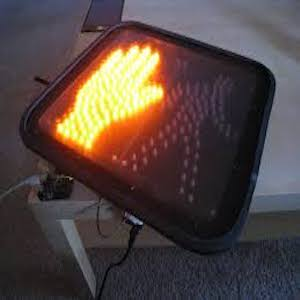red: (58, 34, 162, 153)
